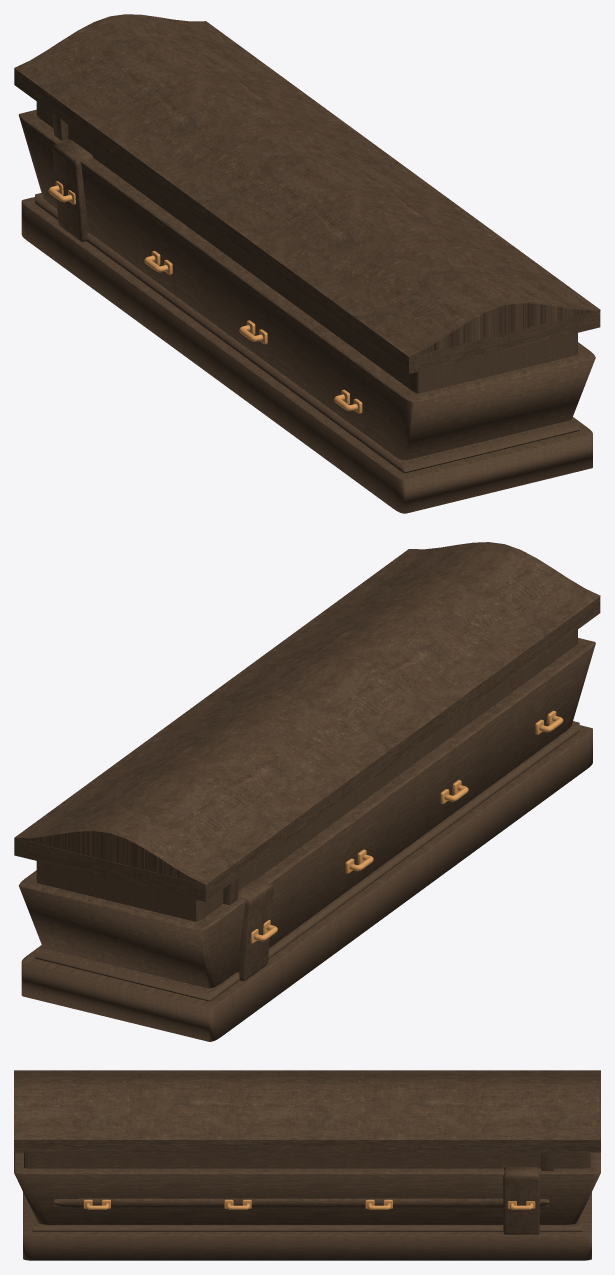
File: Casket.glb
The picture shows the model from 3 angles, top to bottom: view 1: azimuth 30°, elevation 25°; view 2: azimuth 150°, elevation 25°; view 3: azimuth 270°, elevation 25°; orthographic projection. The views are drawn at different scales.
Parts seen in each view (by area): view 1: Plane, Cube.002, Cube, Cube.004, Cube.003, Cube.001, Plane.002, Cube.009; view 2: Plane, Cube.002, Cube, Cube.004, Cube.003, Cube.001, Plane.003, Cube.009; view 3: Plane, Cube.002, Cube, Cube.003, Cube.004, Cube.006, Cube.001, Cube.005.
Boxes of the visible parts, x1,y1,x2,y2 form: Plane: (14,14,600,356); Cube.002: (18,109,595,460); Cube: (21,197,592,513); Cube.004: (14,68,600,373); Cube.003: (36,101,577,393); Cube.001: (35,193,579,473); Plane.002: (410,303,600,356); Cube.009: (52,139,93,241); Plane: (14,542,600,884); Cube.002: (19,638,595,988); Cube: (21,725,592,1041); Cube.004: (14,597,600,901); Cube.003: (36,629,577,921); Cube.001: (35,721,579,1001); Plane.003: (15,831,204,884); Cube.009: (237,878,273,981); Plane: (14,1070,600,1139); Cube.002: (14,1152,600,1224); Cube: (23,1192,591,1260); Cube.003: (24,1152,590,1168); Cube.004: (14,1070,600,1152); Cube.006: (54,1198,549,1207); Cube.001: (32,1211,582,1231); Cube.005: (503,1167,539,1234).
Size of the model in its own units: 2.26 by 1.88 by 7.03.
Materials: 7 (7 with a texture image).
